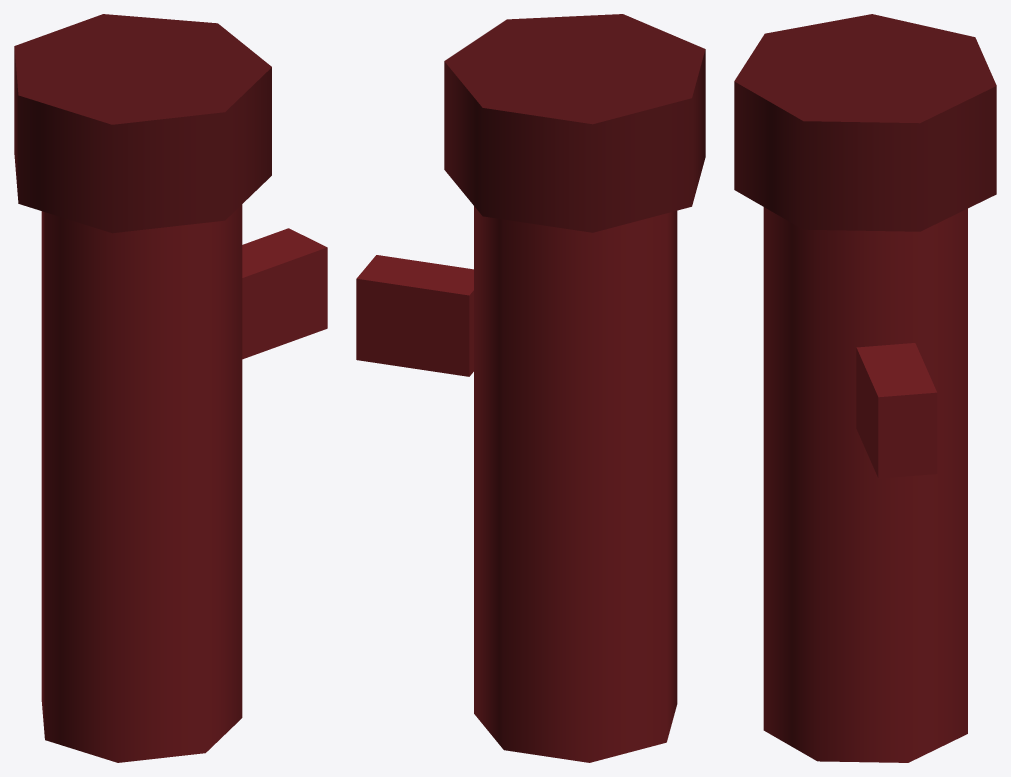
Rendered from cell-315_-765.glb.
The picture shows the model from 3 angles, left to right: view 1: azimuth 30°, elevation 25°; view 2: azimuth 150°, elevation 25°; view 3: azimuth 270°, elevation 25°; orthographic projection.
Parts seen in each view (by area): view 1: cell-315_-765; view 2: cell-315_-765; view 3: cell-315_-765.
Boxes of the visible parts, x1=… form: cell-315_-765: x1=14, y1=14, x2=327, y2=762; cell-315_-765: x1=356, y1=14, x2=705, y2=762; cell-315_-765: x1=734, y1=14, x2=996, y2=762.
Size of the model in its own units: 0.2411 by 0.48 by 0.1754.
